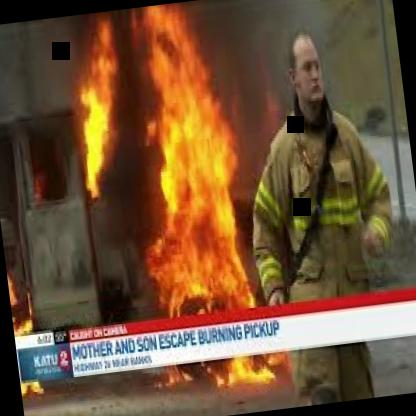fire: (75, 0, 261, 321)
